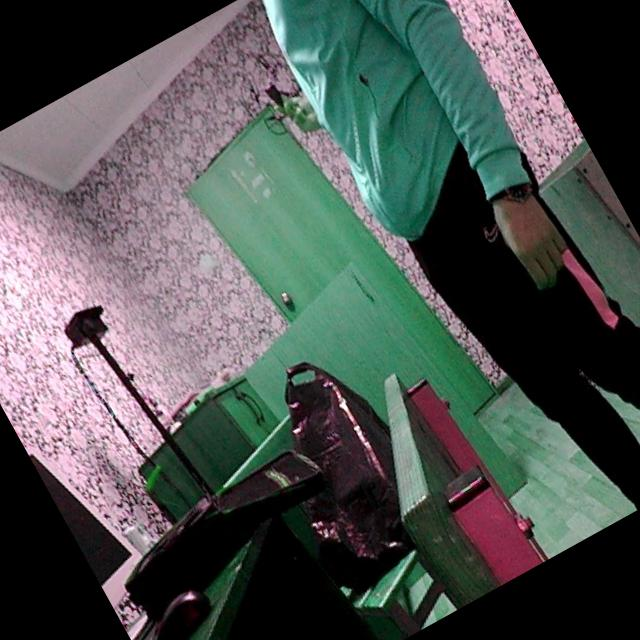drone: (240, 59, 322, 150)
